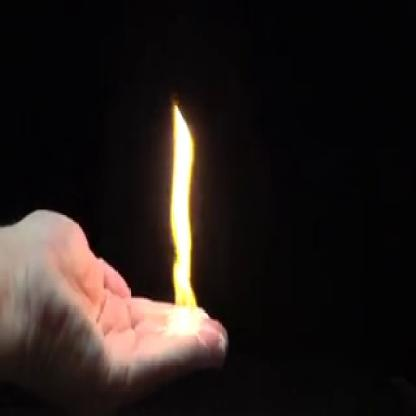fire: (164, 95, 201, 342)
